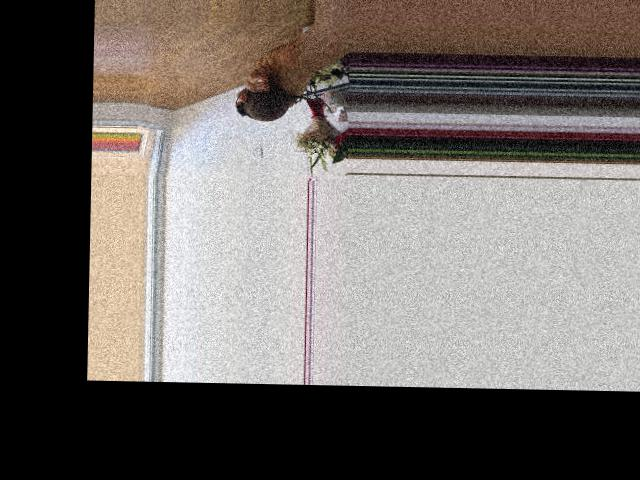beet: (235, 87, 331, 122)
